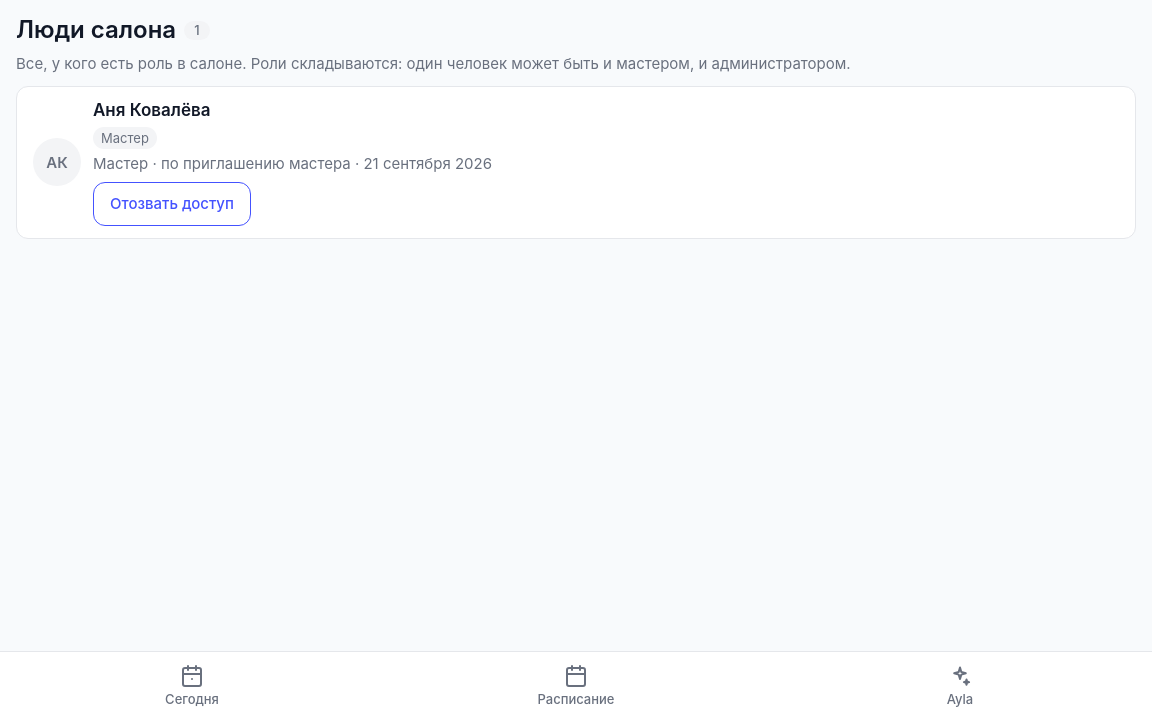
Test: the confirmation names who and what › does nothing at all until the owner confirms
Click the button with aria-label "Отозвать доступ у Аня Ковалёва" at (172, 204), box [93,182,251,226]
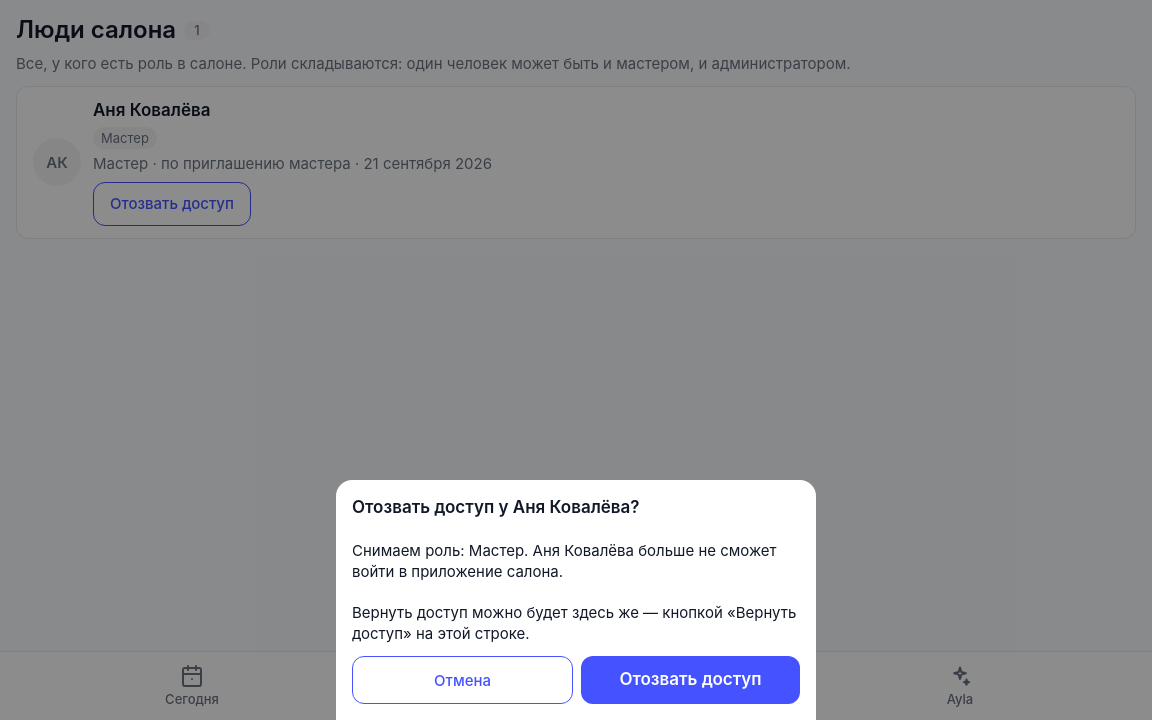
Expected: the dialog is shown
Click the button "Отмена" at (462, 680), box [352,656,573,704]
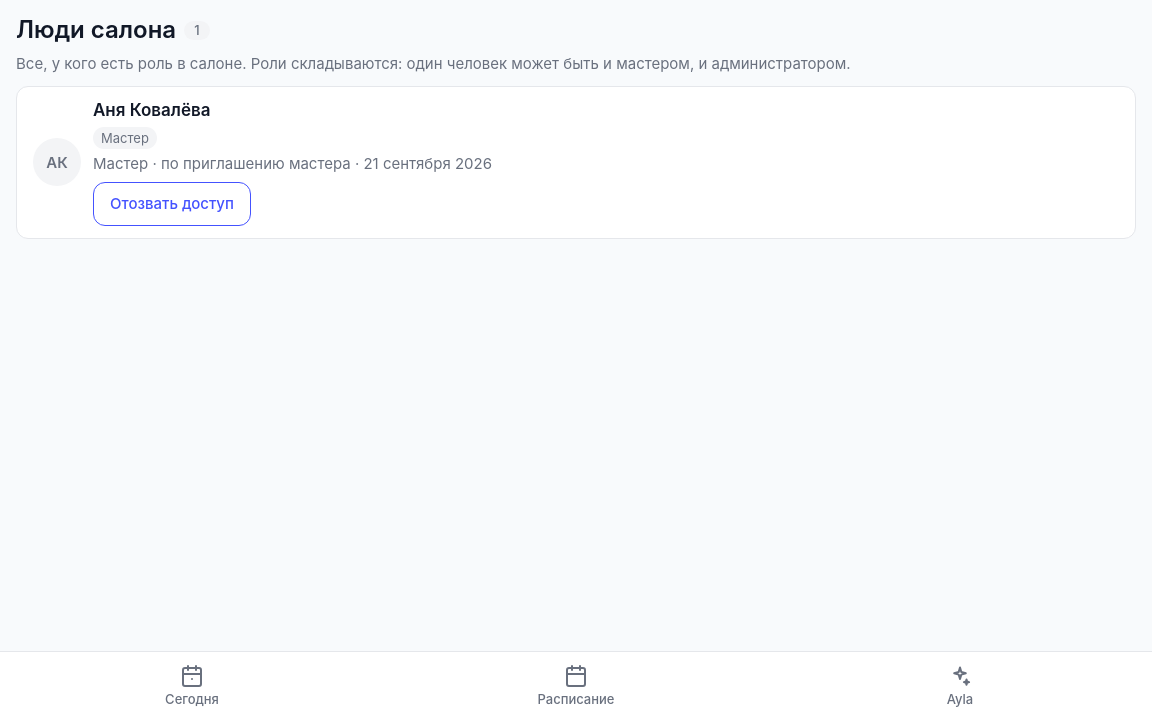
Expected: the button with aria-label "Отозвать доступ у Аня Ковалёва" is shown, [93,182,251,226]
Expected: the dialog is gone
